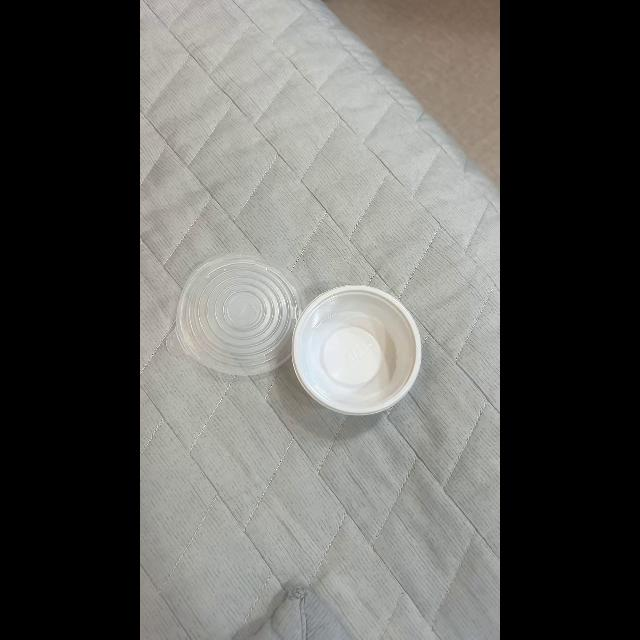clean: (297, 286, 423, 414), (177, 261, 299, 377)
